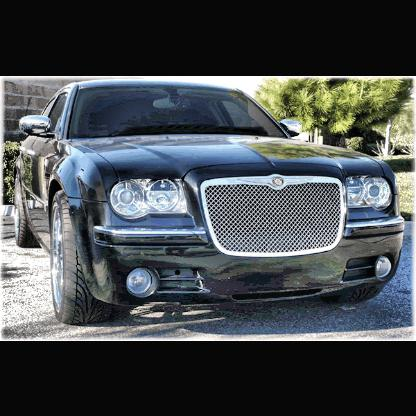Chrysler 300 SRT-8 2010: (15, 80, 408, 325)
